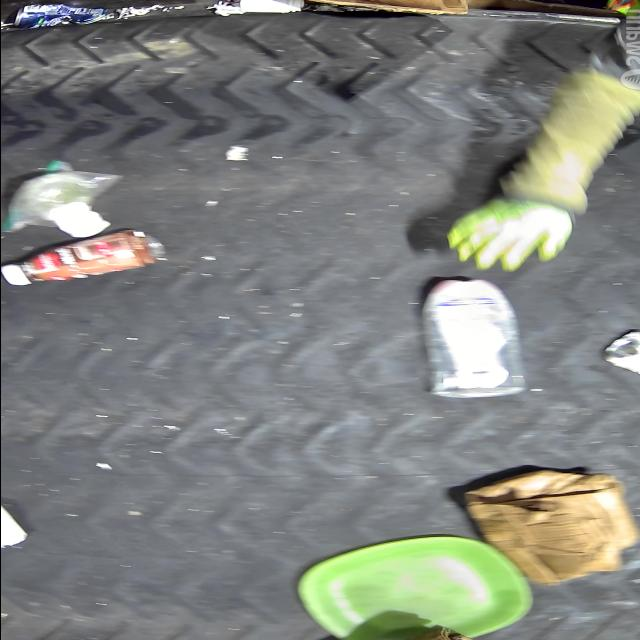can: (13, 4, 109, 28)
